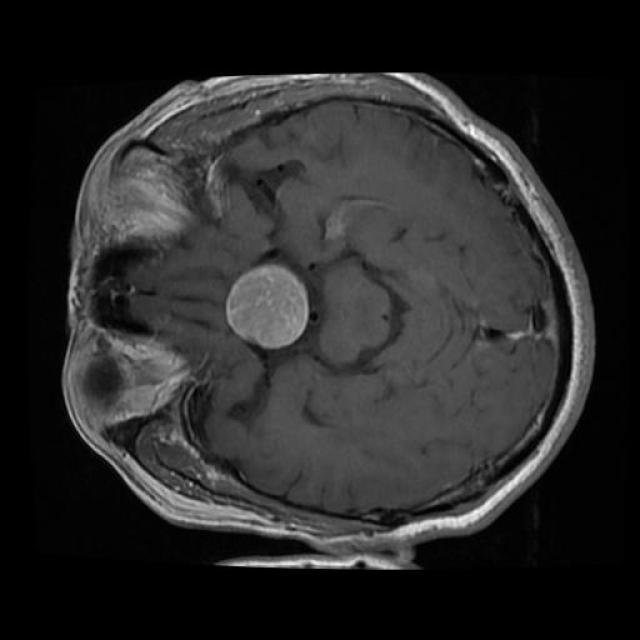Pituitary: (226, 264, 309, 349)
